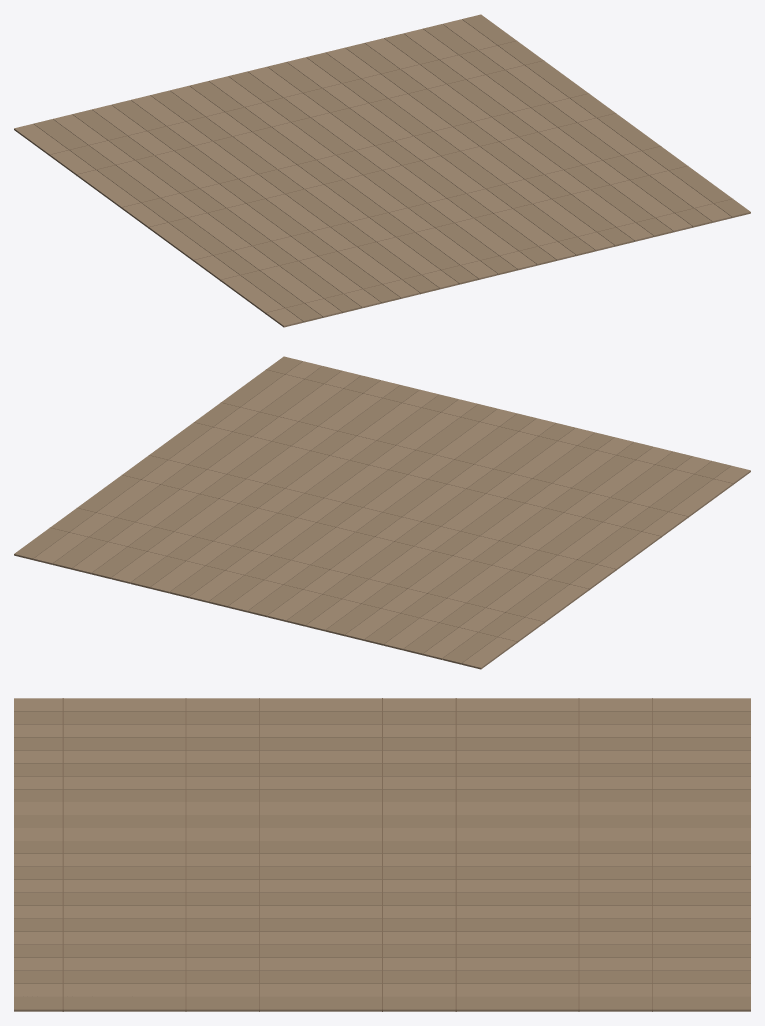
The model's file is home_floor_boards__walnut.glb.
3 views of the same model, one above another, from view 1: azimuth 30°, elevation 25°; view 2: azimuth 150°, elevation 25°; view 3: azimuth 270°, elevation 25° (orthographic). The views are drawn at different scales.
Bounding box in the file's own units: 12 × 0.0419 × 12.
